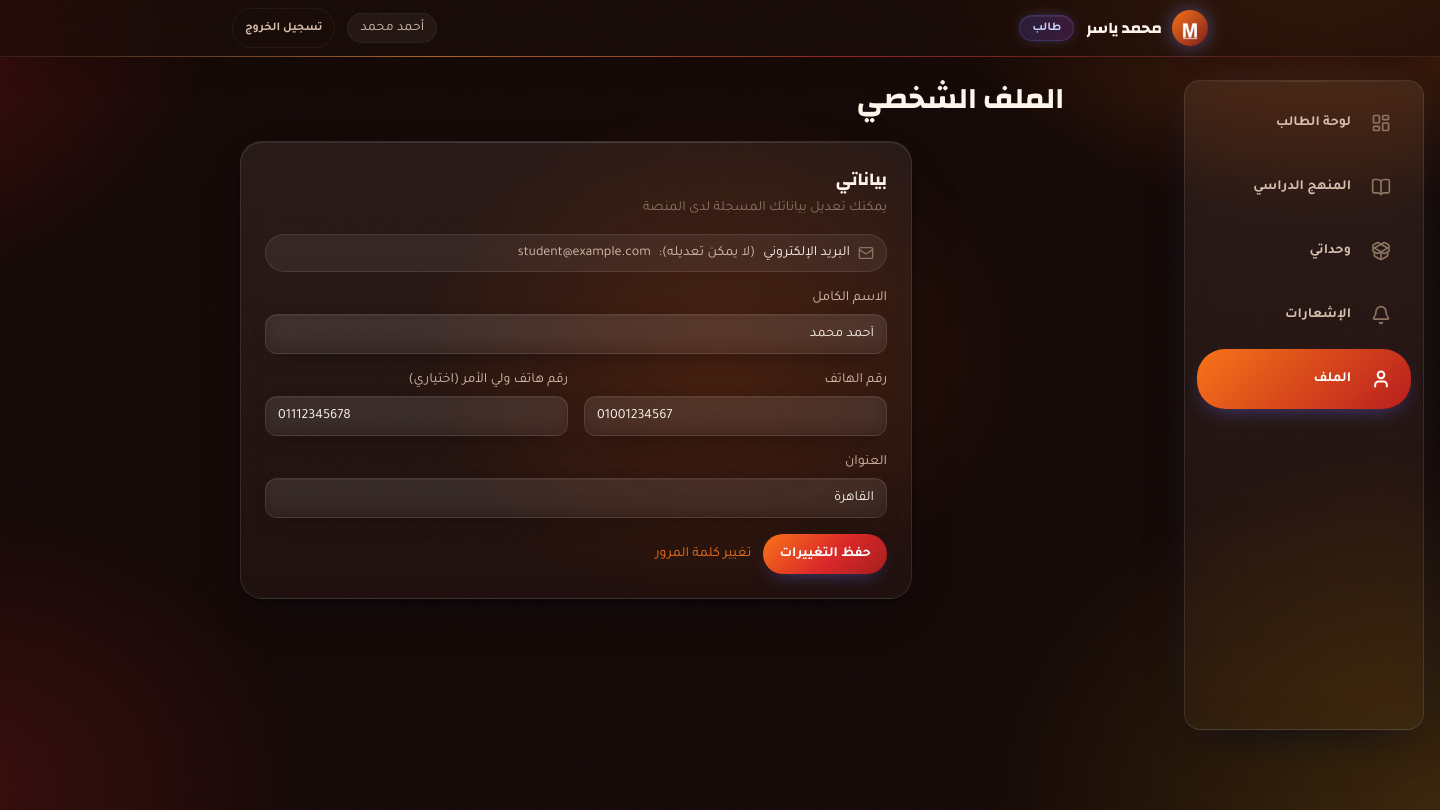
Test case: StudentProfilePage › blocks submission and shows a validation error for an invalid phone
The image size is (1440, 810).
Replace the text in the field labelled "رقم الهاتف" with "123": (736, 416) 584,396 -> 887,436
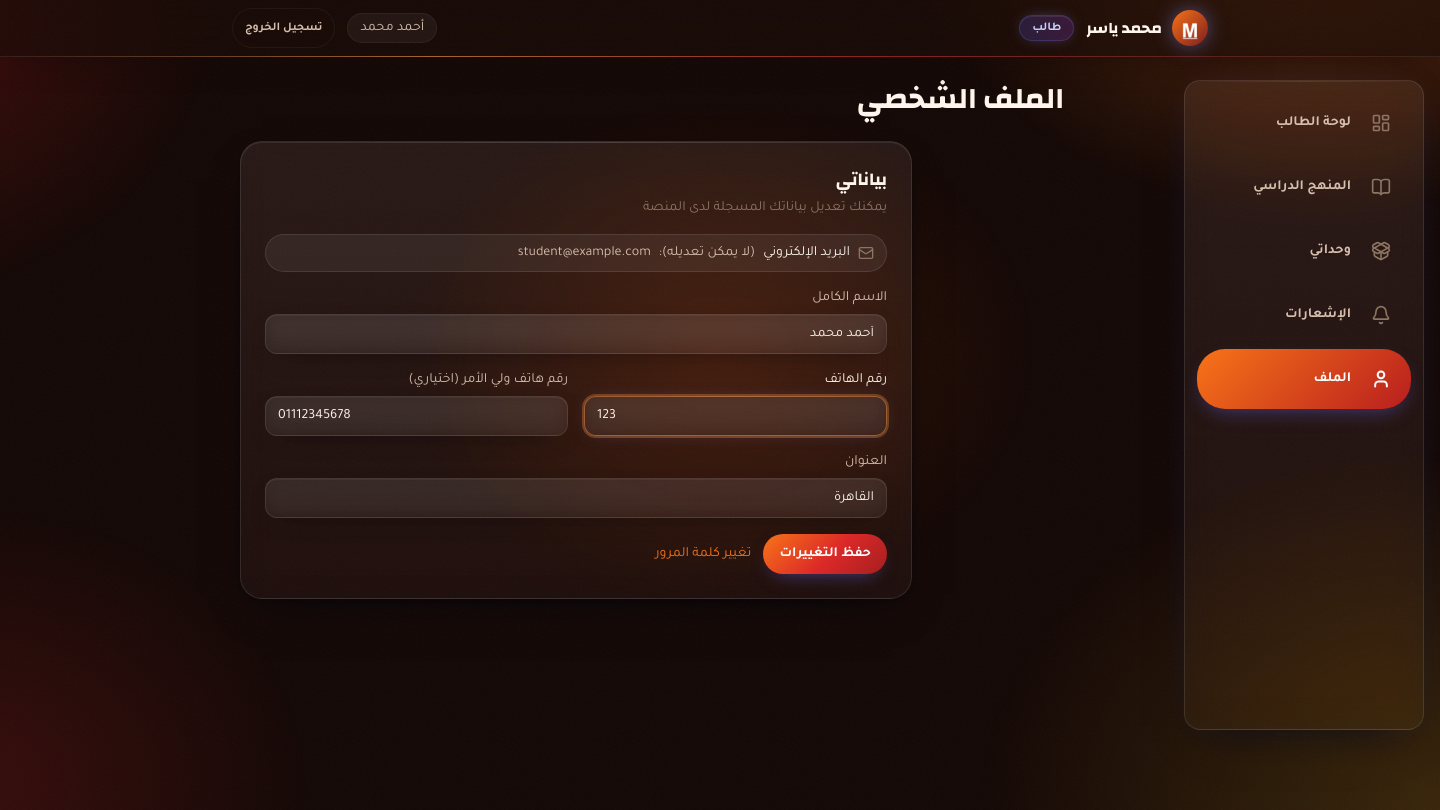
Click the button "حفظ التغييرات": (825, 554) 763,534 -> 887,574
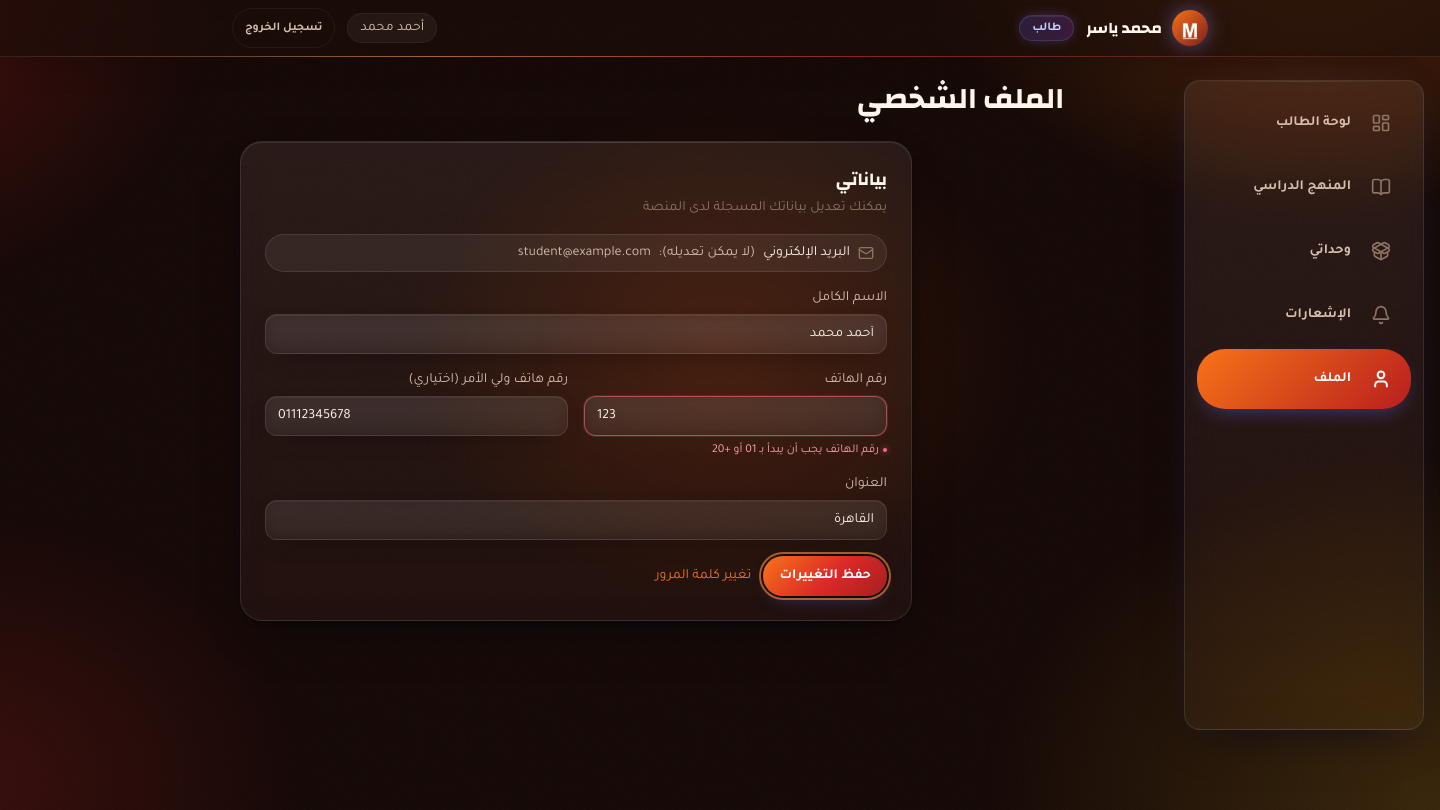
Check: the text "رقم الهاتف يجب أن يبدأ بـ 01 أو +20" is shown, box 712,444 -> 887,456
